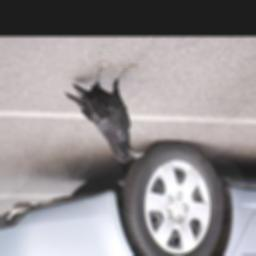Crow: (63, 63, 144, 166)
